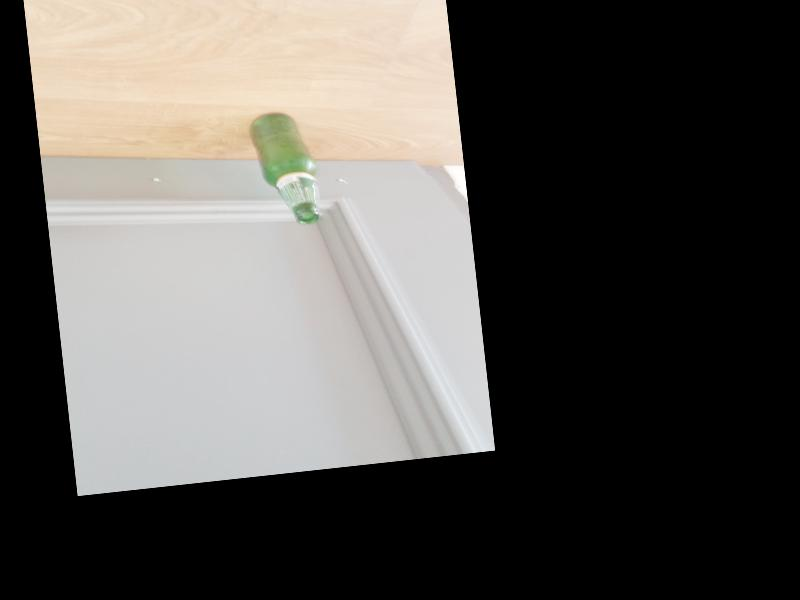Beer: (249, 109, 320, 227)
